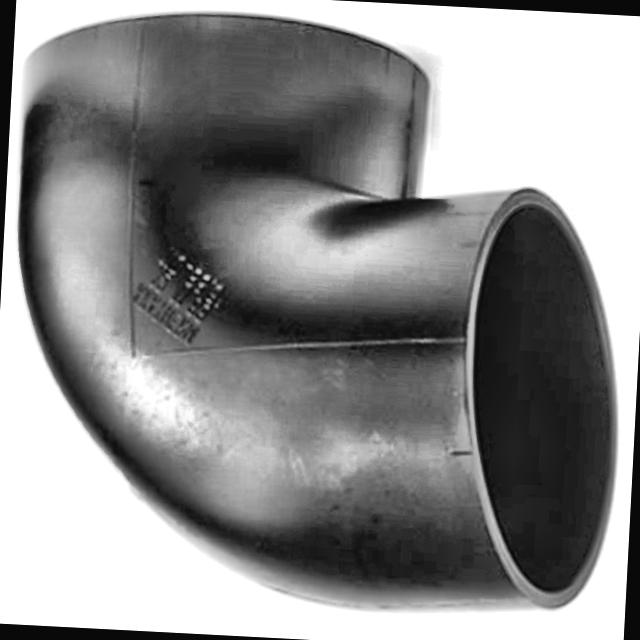ELBOW90: (13, 7, 621, 610)
